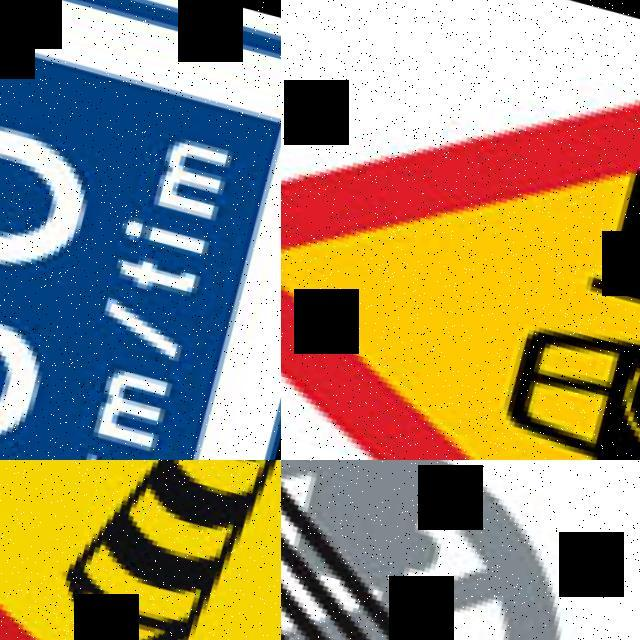111: (281, 460, 640, 640)
149: (281, 0, 640, 460)
155: (0, 460, 281, 640)
speed limit-60: (0, 0, 281, 460)
